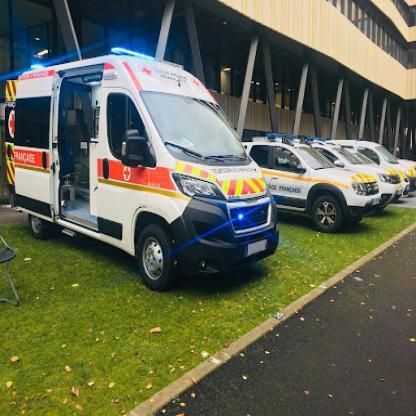Ambulance - v1 Ambulance last generate: (3, 43, 277, 274), (244, 126, 386, 231), (329, 137, 415, 207)
